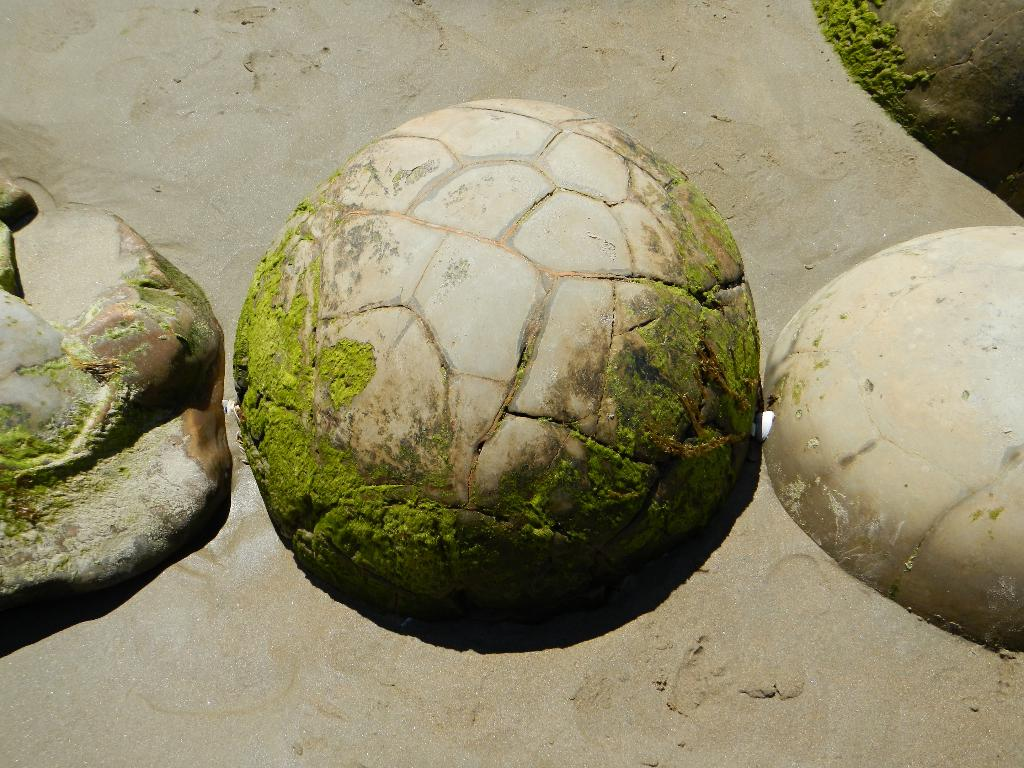Ball: (236, 95, 758, 646), (764, 225, 1023, 653)
